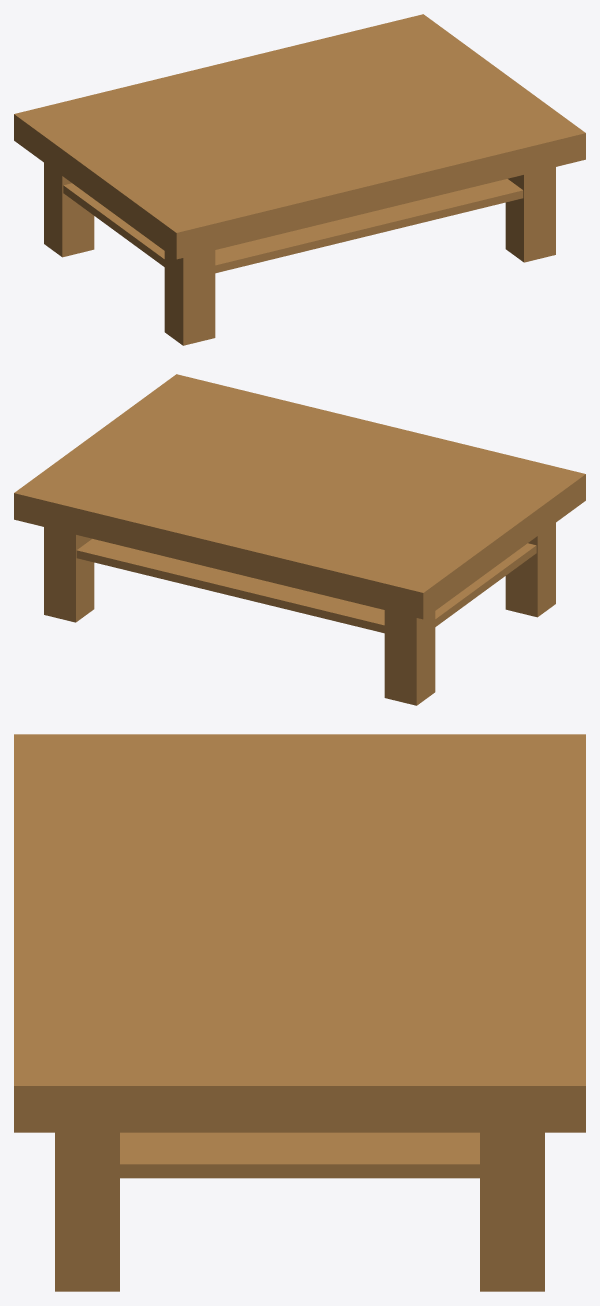
The model's file is 09_furniture_table.FBX.
The picture shows the model from 3 angles, top to bottom: view 1: azimuth 30°, elevation 25°; view 2: azimuth 150°, elevation 25°; view 3: azimuth 270°, elevation 25°; orthographic projection. The views are drawn at different scales.
Parts seen in each view (by area): view 1: furniture_table; view 2: furniture_table; view 3: furniture_table.
Boxes of the visible parts, x1=… form: furniture_table: x1=14, y1=14, x2=585, y2=345; furniture_table: x1=14, y1=374, x2=585, y2=705; furniture_table: x1=14, y1=734, x2=585, y2=1291.
Size of the model in its own units: 81.82 by 24.02 by 56.24.
